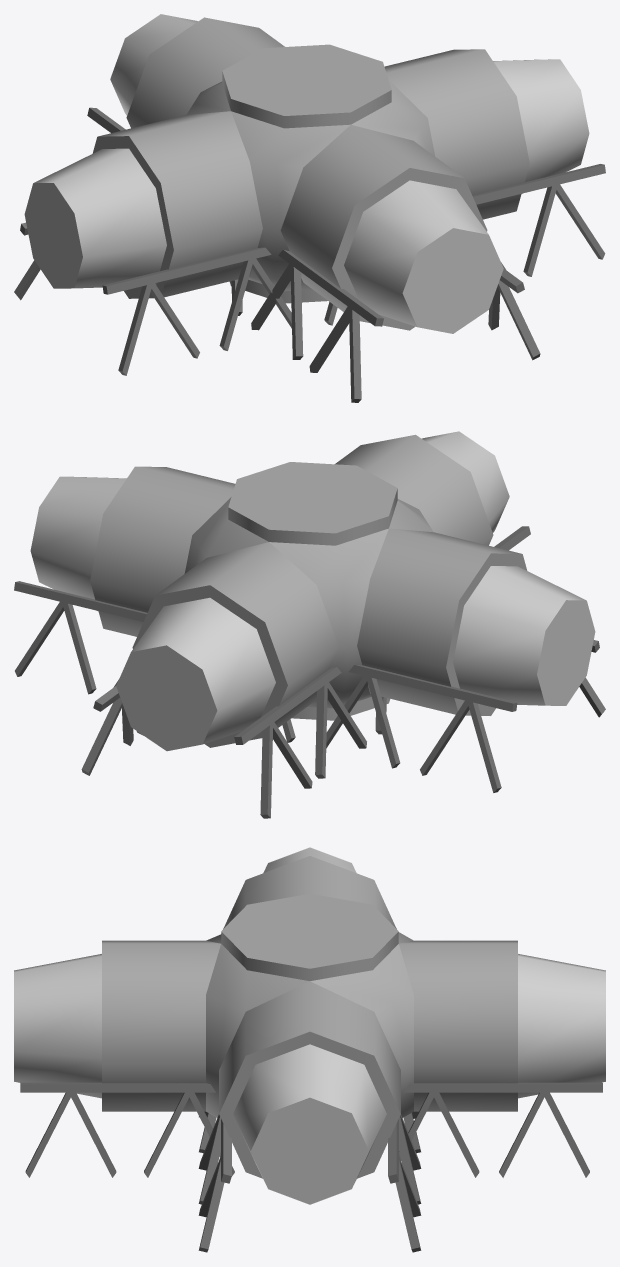
Rendered from TunnelIntersection.glb.
3 renders of one model, top to bottom at view 1: azimuth 30°, elevation 25°; view 2: azimuth 150°, elevation 25°; view 3: azimuth 270°, elevation 25°, orthographic.
Visible parts, largest first — view 1: Intersection, Interseccion2, Interseccion1; view 2: Intersection, Interseccion2, Interseccion1; view 3: Intersection, Interseccion1, Interseccion2.
Boxes of the visible parts, <box> form: Intersection: <box>24,14,589,333</box>; Interseccion2: <box>14,164,605,375</box>; Interseccion1: <box>87,107,540,402</box>; Intersection: <box>30,431,595,751</box>; Interseccion2: <box>14,581,605,792</box>; Interseccion1: <box>81,526,530,818</box>; Intersection: <box>14,847,605,1204</box>; Interseccion1: <box>20,1082,602,1177</box>; Interseccion2: <box>198,928,421,1252</box>.
Bounding box in the file's own units: 2.01 × 0.7546 × 2.
Materials: 1 (1 with a texture image).
